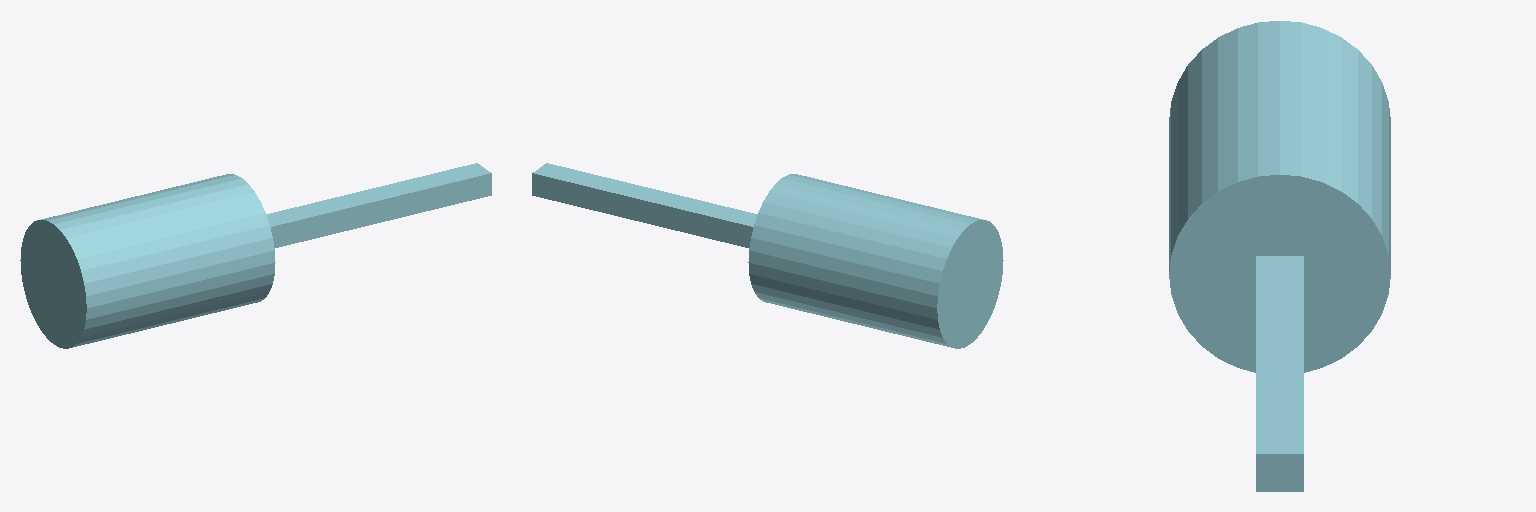
robot.urdf — cylinder_screwdriver_v3015:
<?xml version="1.0"?>
<robot name="cylinder_screwdriver_v3015">

  <link name="cylinder_screwdriver_v3015">
    <!-- Handle -->
    <visual>
      <origin xyz="0 0 0" rpy="0 1.5707963267948966 0"/>
      <geometry>
        <cylinder length="0.10289316425202638" radius="0.031279124511855695"/>
      </geometry>
      <material name="material">
        <color rgba="0.639 0.847 0.882 1.0"/>
      </material>
    </visual>
    <collision>
      <origin xyz="0 0 0" rpy="0 1.5707963267948966 0"/>
      <geometry>
        <cylinder length="0.10289316425202638" radius="0.031279124511855695"/>
      </geometry>
    </collision>

    <!-- Head -->
    <visual>
      <origin xyz="0.11741943877168692 0 0" rpy="0 0 0"/>
      <geometry>
        <box size="0.13194571329134747 0.013356157066542963 0.011668188791641191"/>
      </geometry>
      <material name="material">
        <color rgba="0.639 0.847 0.882 1.0"/>
      </material>
    </visual>
    <collision>
      <origin xyz="0.11741943877168692 0 0" rpy="0 0 0"/>
      <geometry>
        <box size="0.13194571329134747 0.013356157066542963 0.011668188791641191"/>
      </geometry>
    </collision>

    <inertial>
      <density value="400.0"/>
    </inertial>
  </link>

</robot>

--- Facts derived from the render (not from the file) ---
Views: 3 orthographic renders of the robot side by side, from view 1: azimuth 30°, elevation 25°; view 2: azimuth 150°, elevation 25°; view 3: azimuth 270°, elevation 25°.
Model cylinder_screwdriver_v3015 with 1 links and 0 joints (none), rooted at cylinder_screwdriver_v3015, posed every joint at zero.
Visible links, largest first — view 1: cylinder_screwdriver_v3015; view 2: cylinder_screwdriver_v3015; view 3: cylinder_screwdriver_v3015.
Boxes of the visible links, bbox=[...] form: cylinder_screwdriver_v3015: bbox=[20, 163, 491, 348]; cylinder_screwdriver_v3015: bbox=[532, 163, 1003, 348]; cylinder_screwdriver_v3015: bbox=[1169, 21, 1390, 491].
Bounding box of the posed robot: 0.2348 × 0.0626 × 0.0626 m (x, y, z).
Geometry: primitives only (box / cylinder / sphere), no mesh files.
